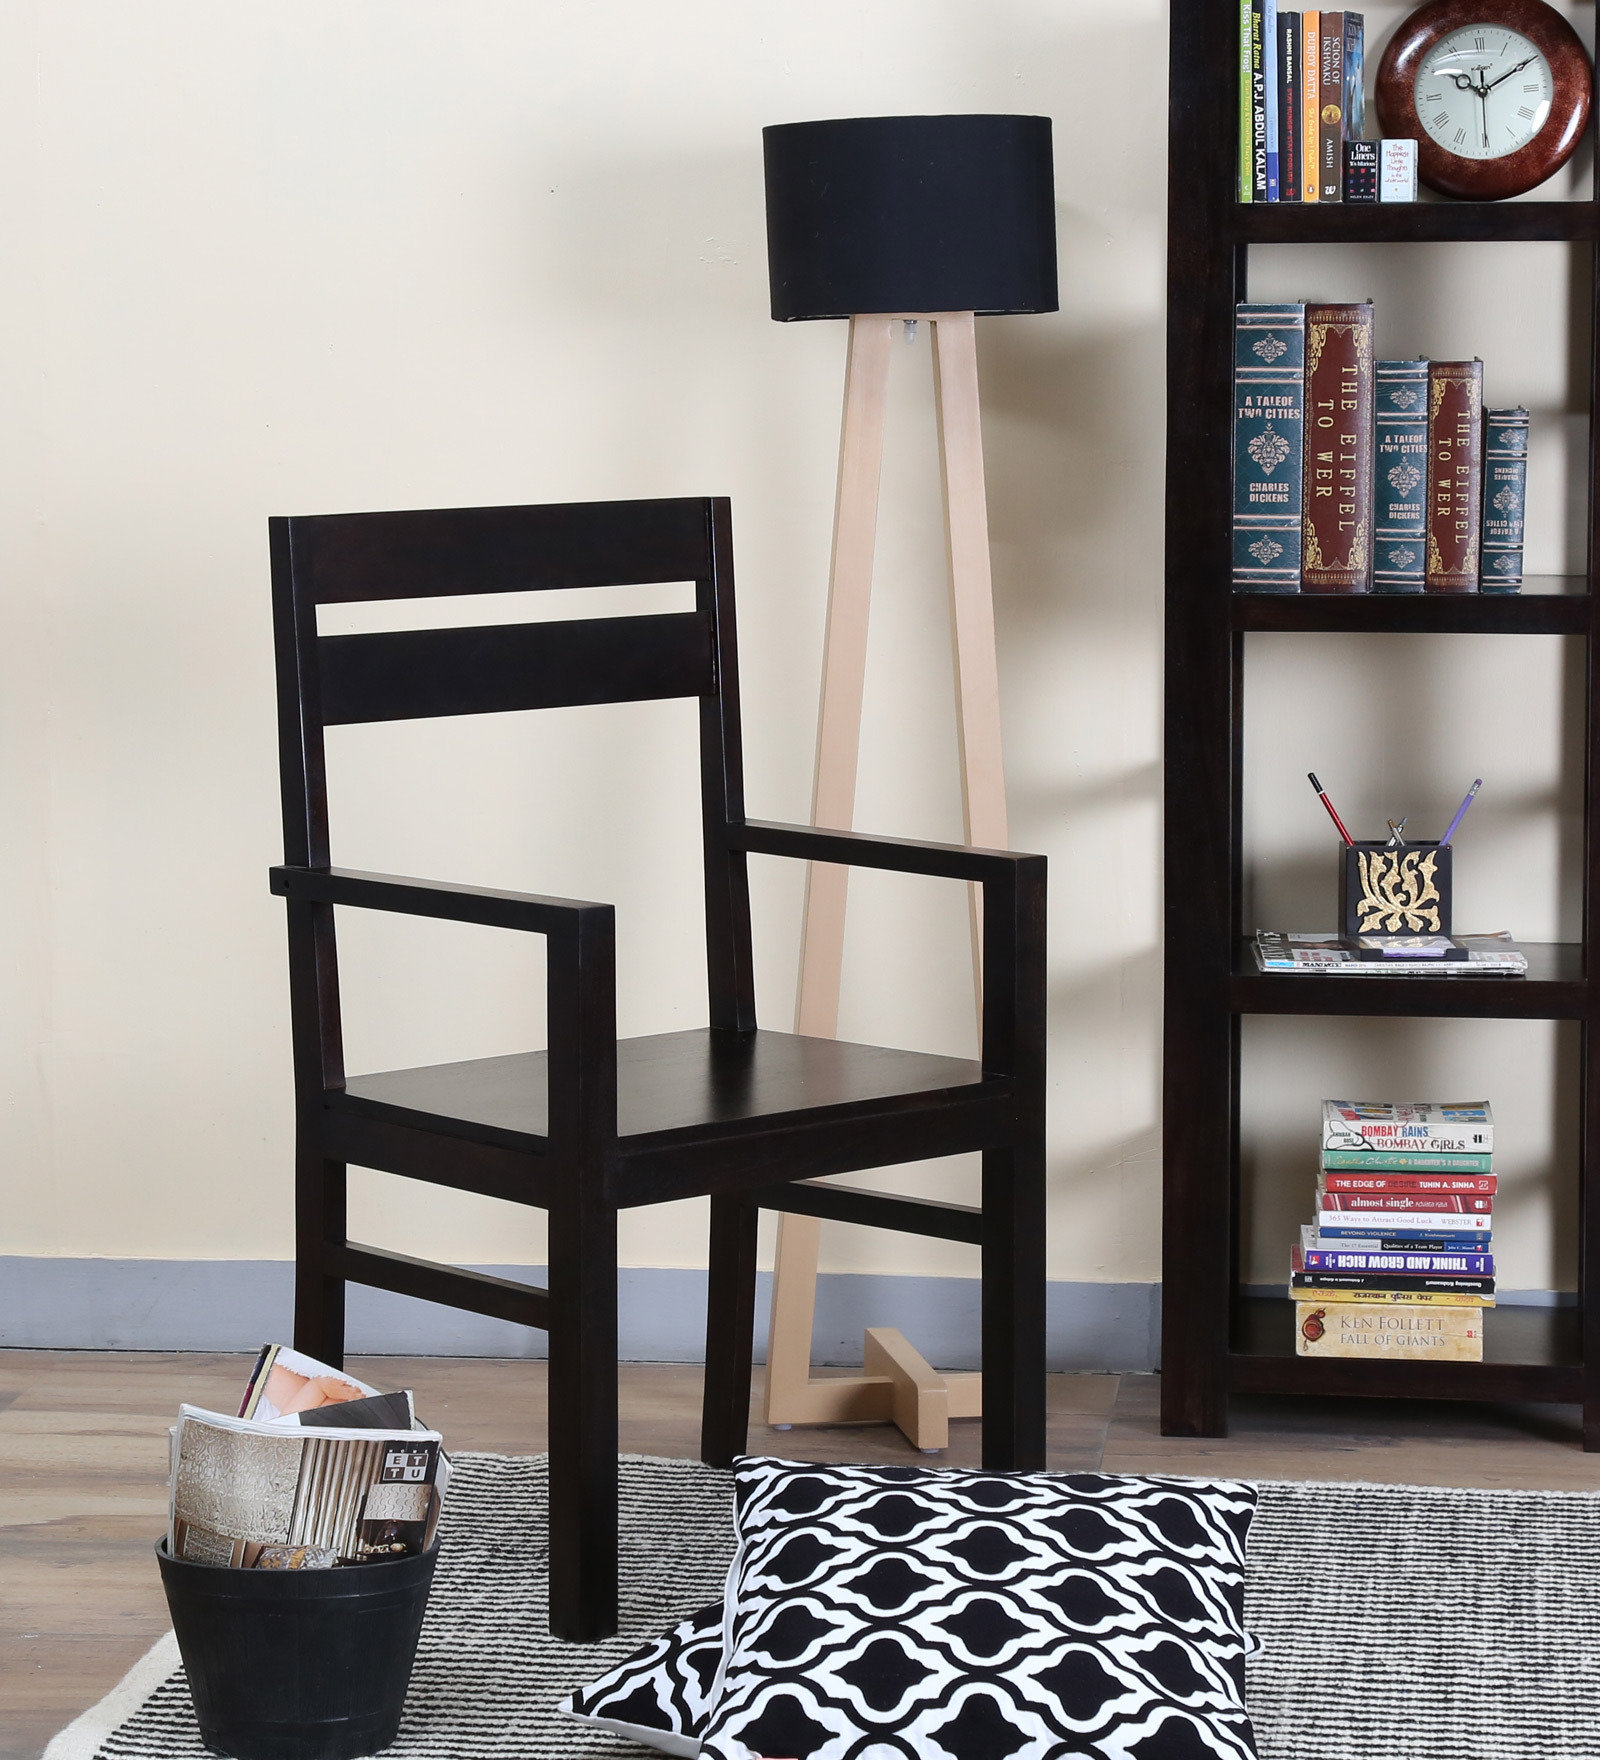Enkel Arm Chair in Warm Chestnut Finish by Woodsworth: (225, 480, 1133, 1716)
